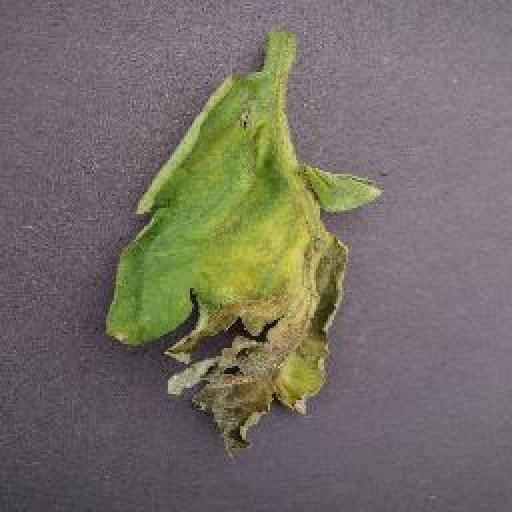disease_tomato: (103, 65, 384, 459)
